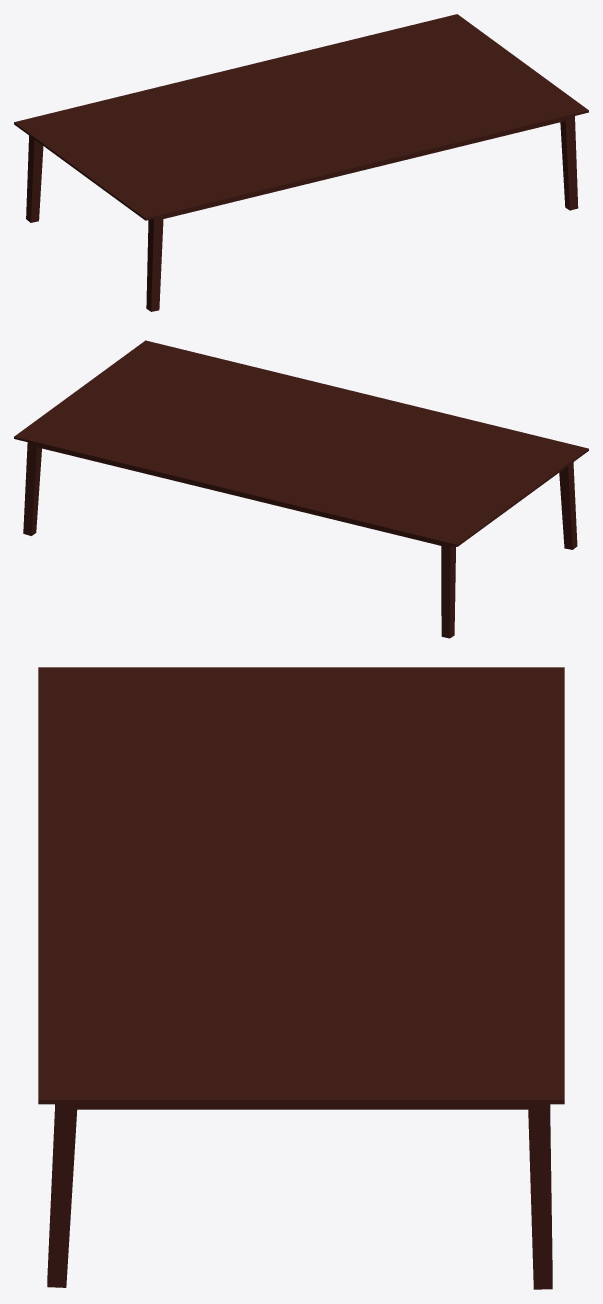
Rendered from Table3.glb.
3 renders of one model, top to bottom at view 1: azimuth 30°, elevation 25°; view 2: azimuth 150°, elevation 25°; view 3: azimuth 270°, elevation 25°, orthographic. The views are drawn at different scales.
Visible parts, largest first — view 1: Куб.001; view 2: Куб.001; view 3: Куб.001.
Boxes of the visible parts, x1,y1,x2,y2 form: Куб.001: [14, 14, 588, 311]; Куб.001: [14, 340, 588, 638]; Куб.001: [38, 667, 564, 1289].
Size of the model in its own units: 32.06 by 6.79 by 16.48.
